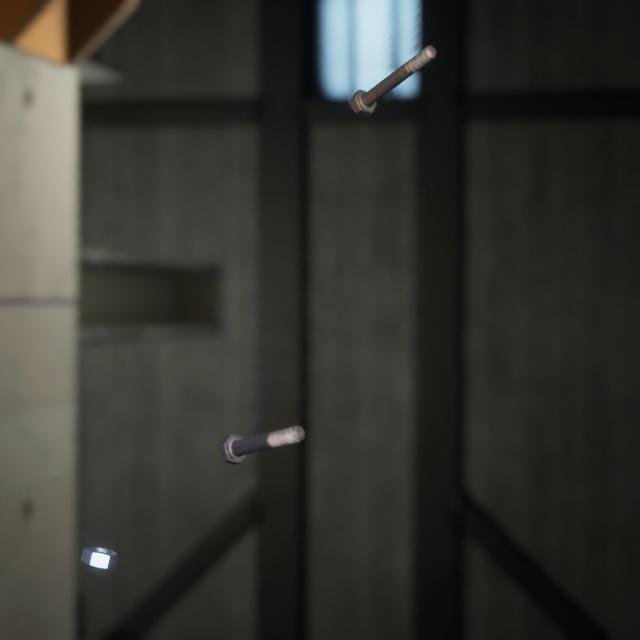bolt: (345, 30, 441, 110), (214, 399, 309, 448)
nut: (76, 519, 122, 551)
